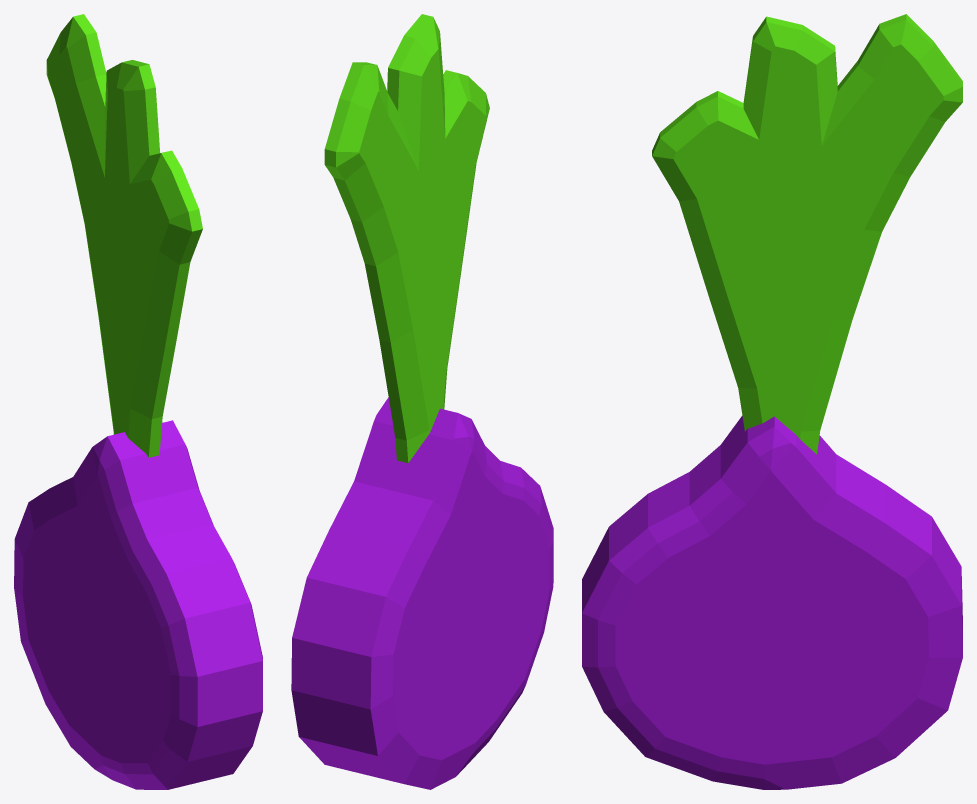
Rendered from onion.fbx.
3 renders of one model, left to right at view 1: azimuth 30°, elevation 25°; view 2: azimuth 150°, elevation 25°; view 3: azimuth 270°, elevation 25°, orthographic. The views are drawn at different scales.
Visible parts, largest first — view 1: Plane, Plane.001; view 2: Plane, Plane.001; view 3: Plane, Plane.001.
Boxes of the visible parts, x1,y1,x2,y2 form: Plane: [14, 420, 262, 789]; Plane.001: [46, 14, 202, 457]; Plane: [291, 397, 553, 789]; Plane.001: [324, 14, 489, 462]; Plane: [582, 416, 962, 789]; Plane.001: [652, 14, 962, 454].
Bounding box in the file's own units: 63.12 × 488 × 223.
